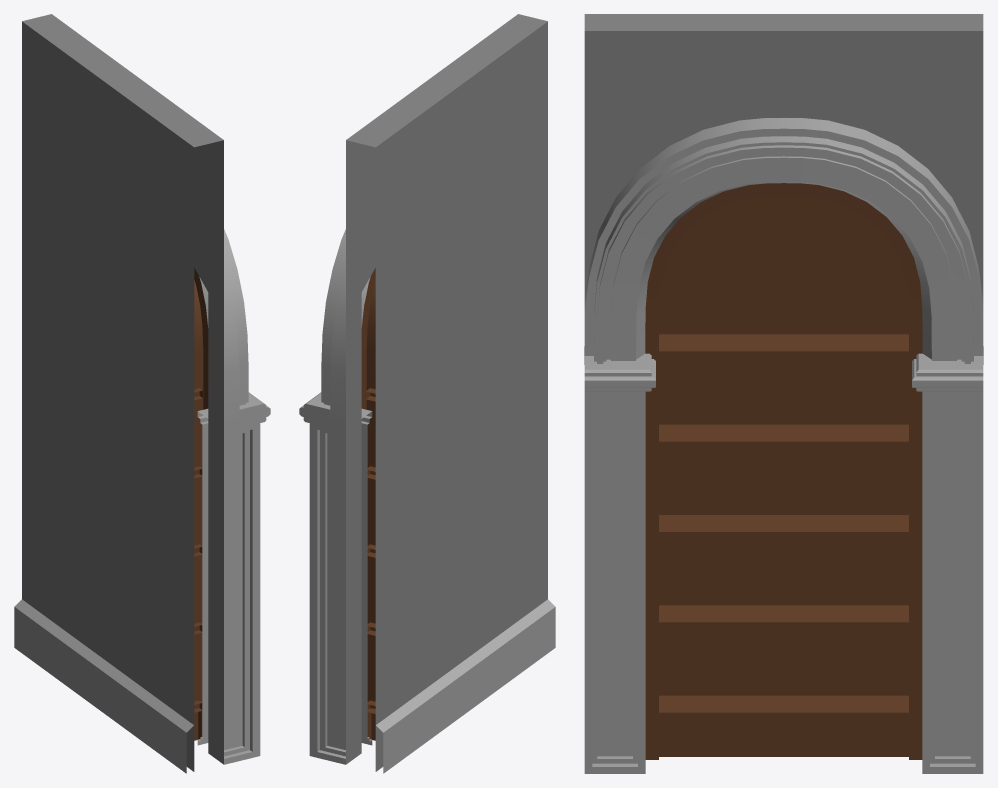
The model's file is BuiltInBookCase_01.fbx.
The picture shows the model from 3 angles, left to right: view 1: azimuth 30°, elevation 25°; view 2: azimuth 150°, elevation 25°; view 3: azimuth 270°, elevation 25°; orthographic projection. The views are drawn at different scales.
Parts seen in each view (by area): view 1: BuiltInBookCase_01; view 2: BuiltInBookCase_01; view 3: BuiltInBookCase_01.
Part boxes in pixels (bbox=[...]): BuiltInBookCase_01: bbox=[14, 14, 270, 773]; BuiltInBookCase_01: bbox=[299, 14, 555, 773]; BuiltInBookCase_01: bbox=[584, 14, 983, 773].
Bounding box in the file's own units: 56.18 × 400 × 200.
